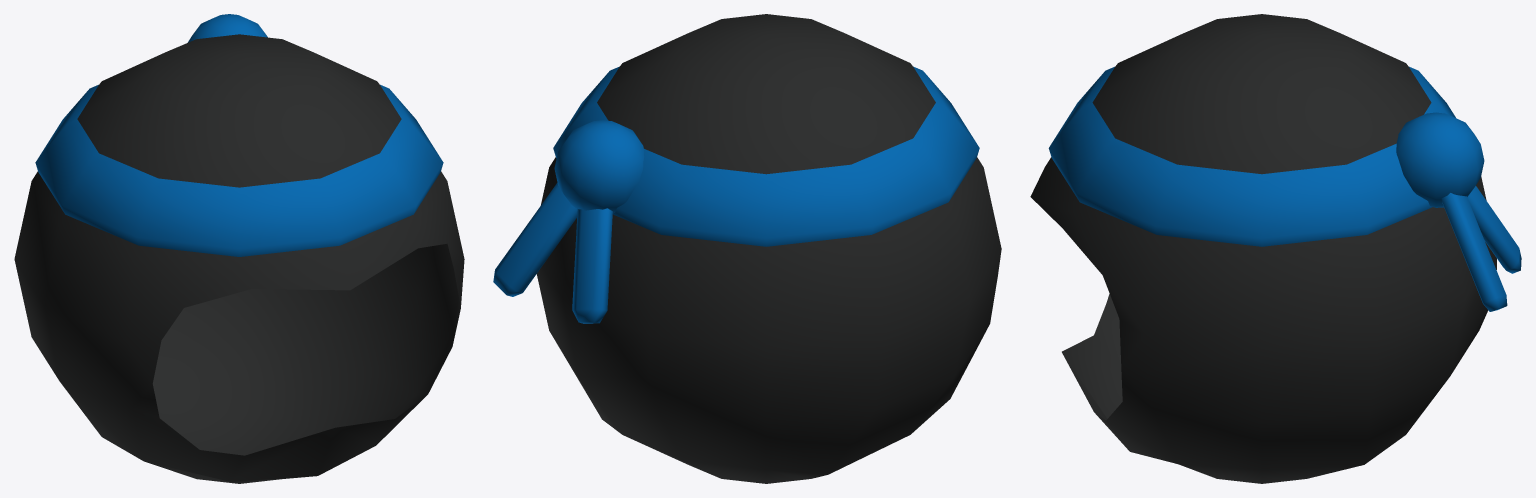
Rendered from ninjamask_blue.gltf.
3 views of the same model, side by side, from view 1: azimuth 30°, elevation 25°; view 2: azimuth 150°, elevation 25°; view 3: azimuth 270°, elevation 25° (orthographic). The views are drawn at different scales.
Visible parts, largest first — view 1: Sphere; view 2: Sphere; view 3: Sphere.
Part boxes in pixels (x1,y1,x2,y2): Sphere: [14, 14, 464, 483]; Sphere: [493, 14, 1001, 483]; Sphere: [1030, 14, 1521, 483].
Size of the model in its own units: 0.5742 by 0.5742 by 0.5995.
